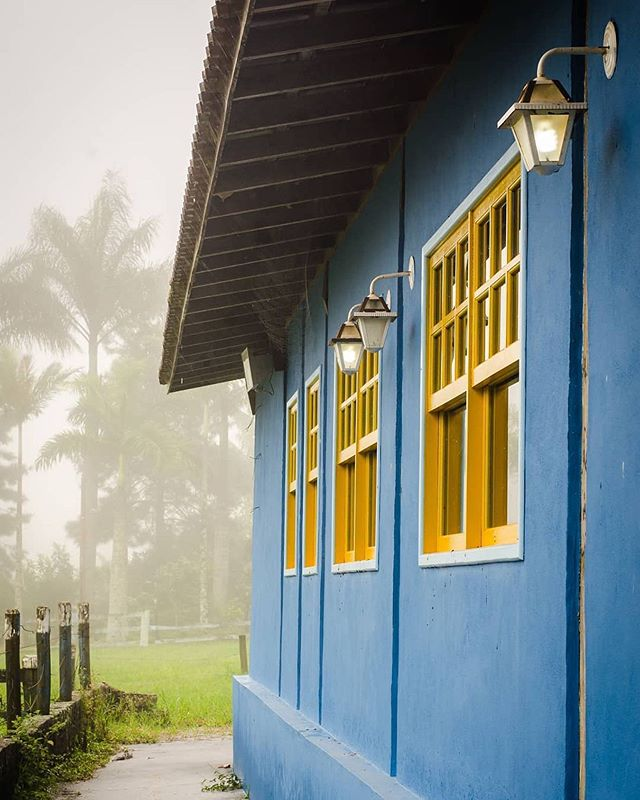building: (211, 1, 640, 772)
sky: (1, 1, 198, 199)
tree: (1, 182, 167, 636)
